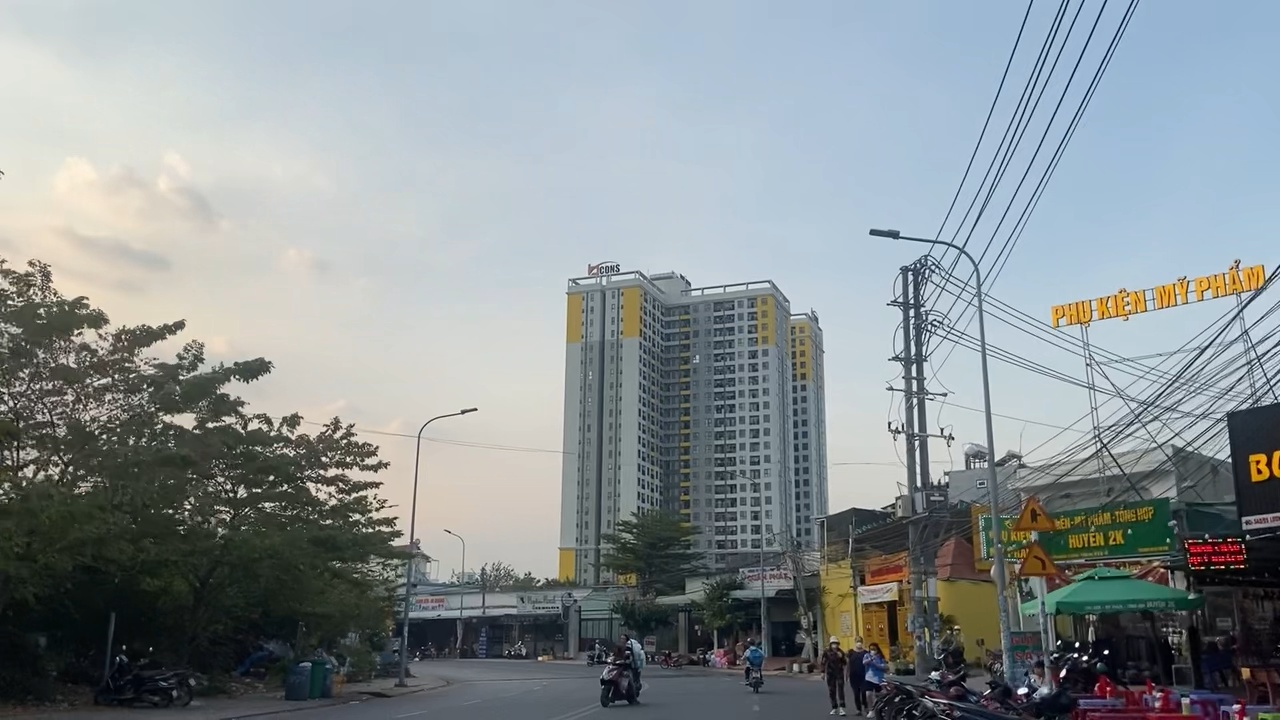duong_nghieng_trai: (1016, 537, 1061, 578)
giao_khong_uu_tien_phai: (1011, 492, 1058, 533)
